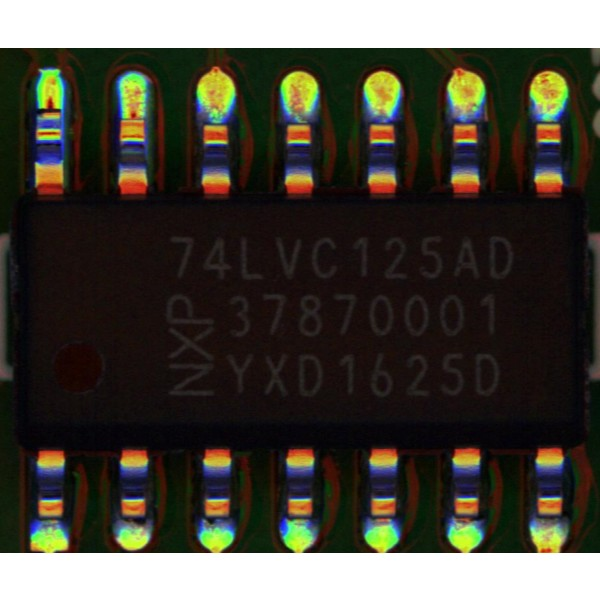Bad_podu: (41, 96, 59, 125), (128, 103, 142, 132)
